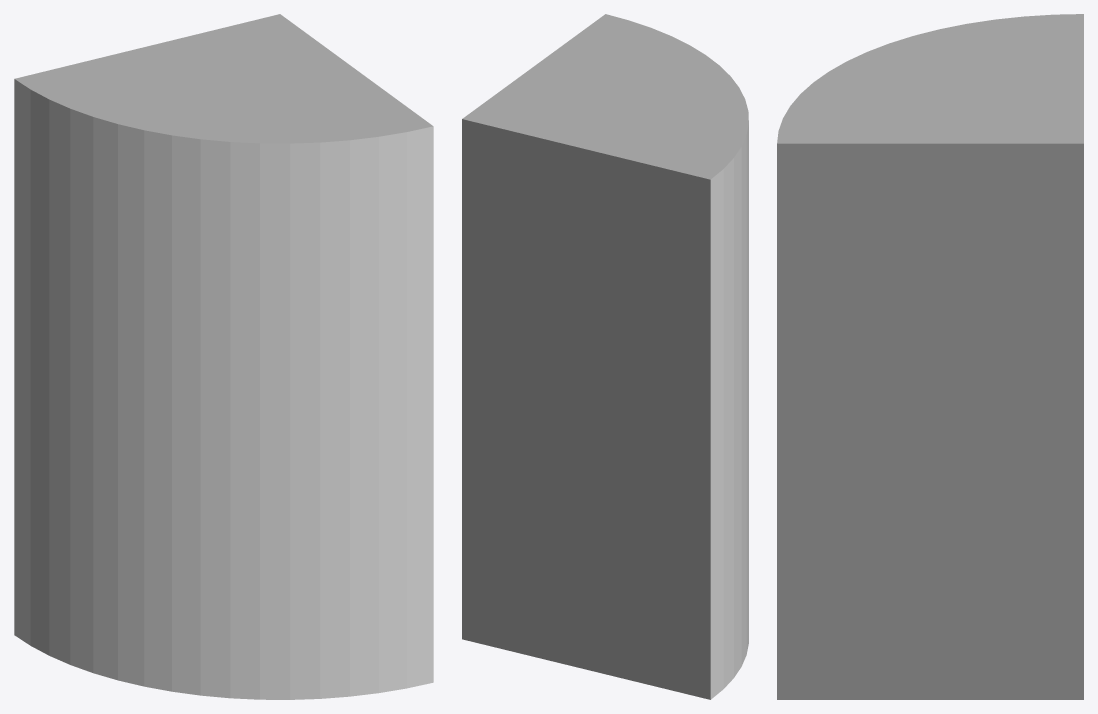
The model's file is CylinderQuarter_10x10x20.fbx.
The picture shows the model from 3 angles, left to right: view 1: azimuth 30°, elevation 25°; view 2: azimuth 150°, elevation 25°; view 3: azimuth 270°, elevation 25°; orthographic projection. The views are drawn at different scales.
Parts seen in each view (by area): view 1: CylinderQuarter_10x10x20; view 2: CylinderQuarter_10x10x20; view 3: CylinderQuarter_10x10x20.
Part boxes in pixels (x1=…): CylinderQuarter_10x10x20: x1=14, y1=14, x2=433, y2=699; CylinderQuarter_10x10x20: x1=462, y1=14, x2=748, y2=699; CylinderQuarter_10x10x20: x1=777, y1=14, x2=1083, y2=699.
Size of the model in its own units: 10 by 20 by 10.
